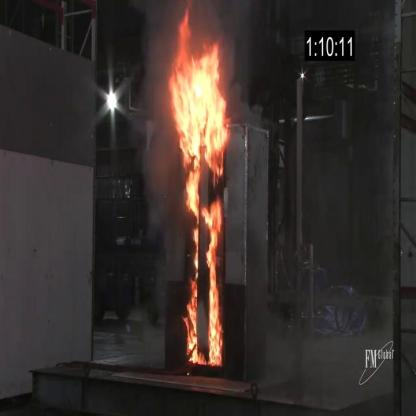fire: (166, 1, 236, 384)
